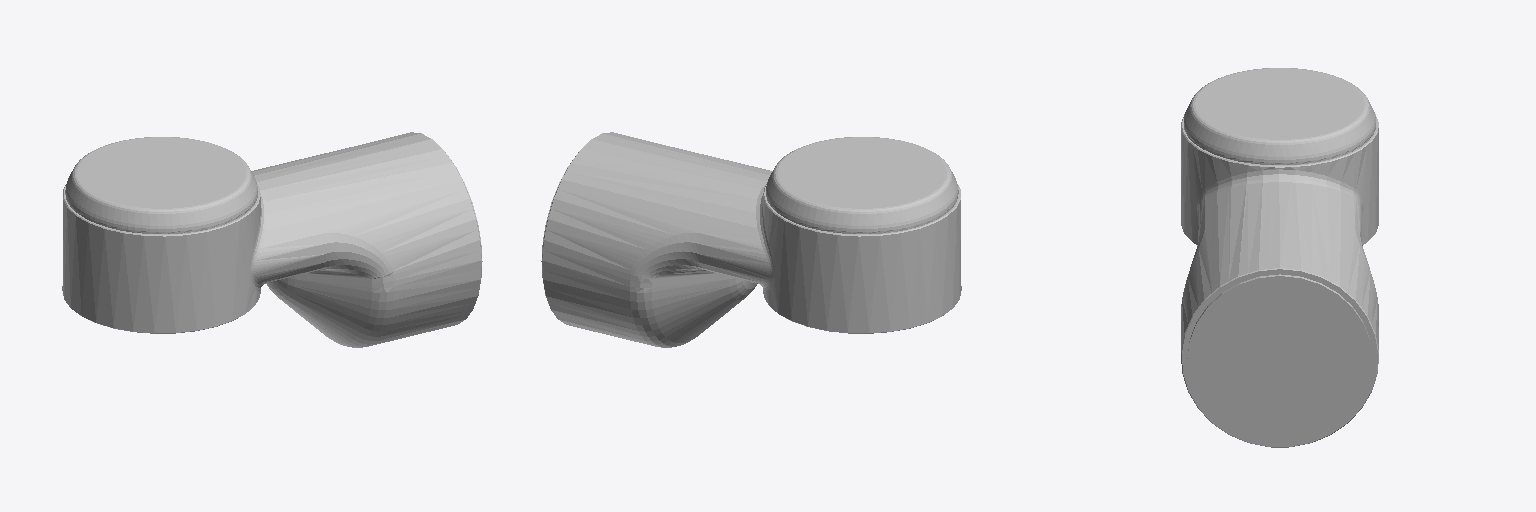
Rendered from elbow_flex_link.obj.
3 views of the same model, side by side, from view 1: azimuth 30°, elevation 25°; view 2: azimuth 150°, elevation 25°; view 3: azimuth 270°, elevation 25° (orthographic).
Parts seen in each view (by area): view 1: elbow_flex_link_elbow flex link.002_Material_001.025; view 2: elbow_flex_link_elbow flex link.002_Material_001.025; view 3: elbow_flex_link_elbow flex link.002_Material_001.025.
Boxes of the visible parts, x1=… form: elbow_flex_link_elbow flex link.002_Material_001.025: x1=62, y1=132, x2=482, y2=347; elbow_flex_link_elbow flex link.002_Material_001.025: x1=541, y1=132, x2=961, y2=347; elbow_flex_link_elbow flex link.002_Material_001.025: x1=1181, y1=68, x2=1378, y2=447.
Bounding box in the file's own units: 0.218 × 0.1225 × 0.104.